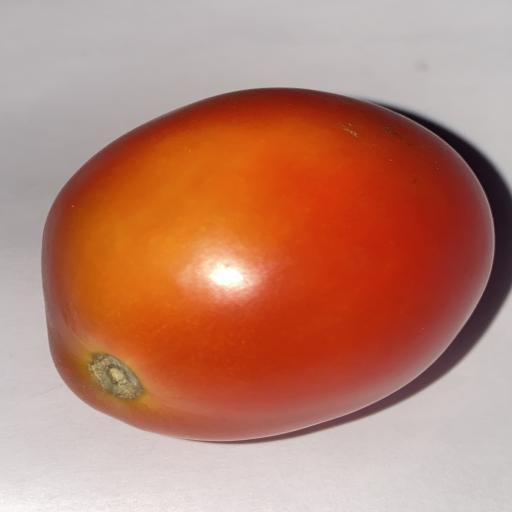ripe: (42, 89, 494, 440)
